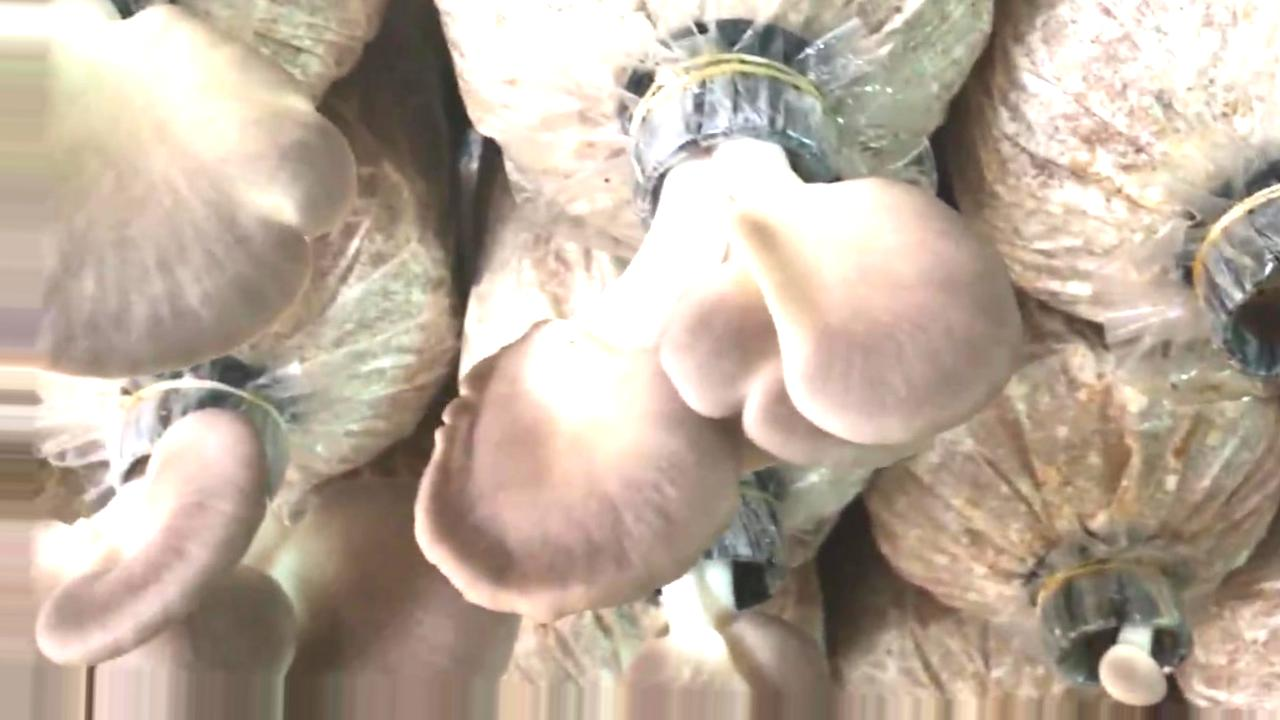nam: (417, 49, 1021, 616), (1, 387, 517, 717), (1, 1, 349, 377), (620, 481, 828, 720), (1037, 568, 1197, 703)
